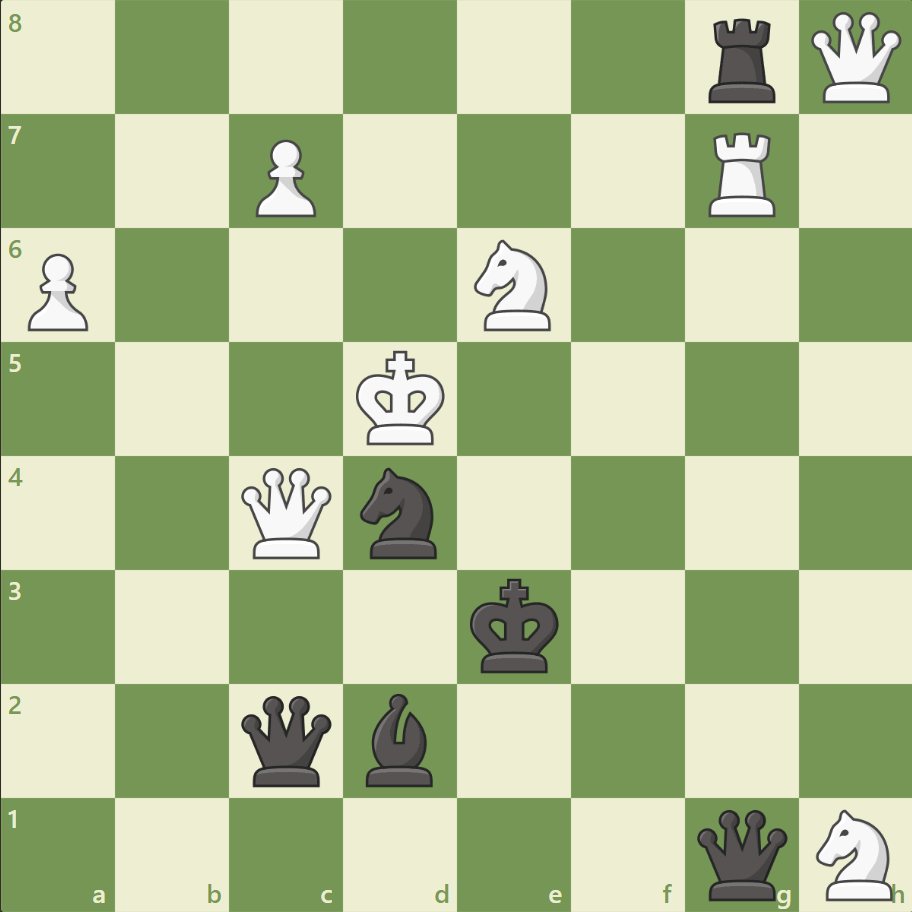K: (351, 344, 451, 452)
N: (465, 234, 562, 337), (806, 802, 903, 904)
P: (247, 132, 322, 223), (20, 246, 95, 337)
Q: (805, 9, 904, 108), (237, 463, 336, 562)
R: (700, 125, 783, 222)
b: (358, 687, 442, 790)
k: (465, 571, 565, 679)
n: (351, 461, 449, 564)
q: (237, 690, 336, 789), (691, 804, 790, 903)
r: (700, 12, 783, 109)
